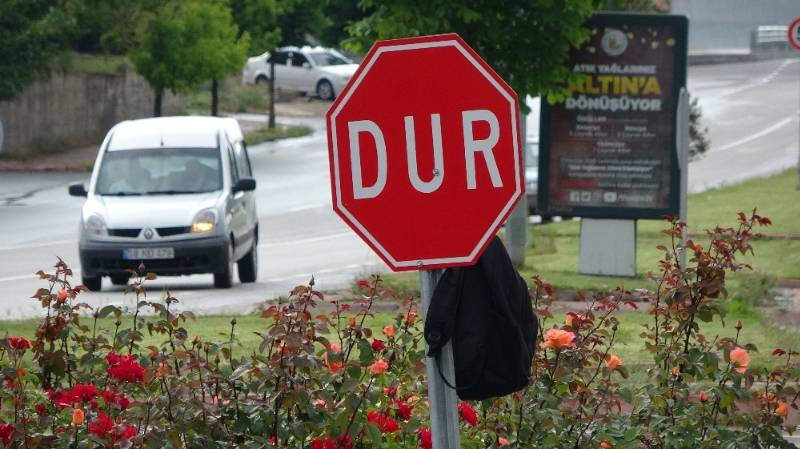dur: (317, 31, 528, 285)
otomobil: (57, 96, 285, 305)
